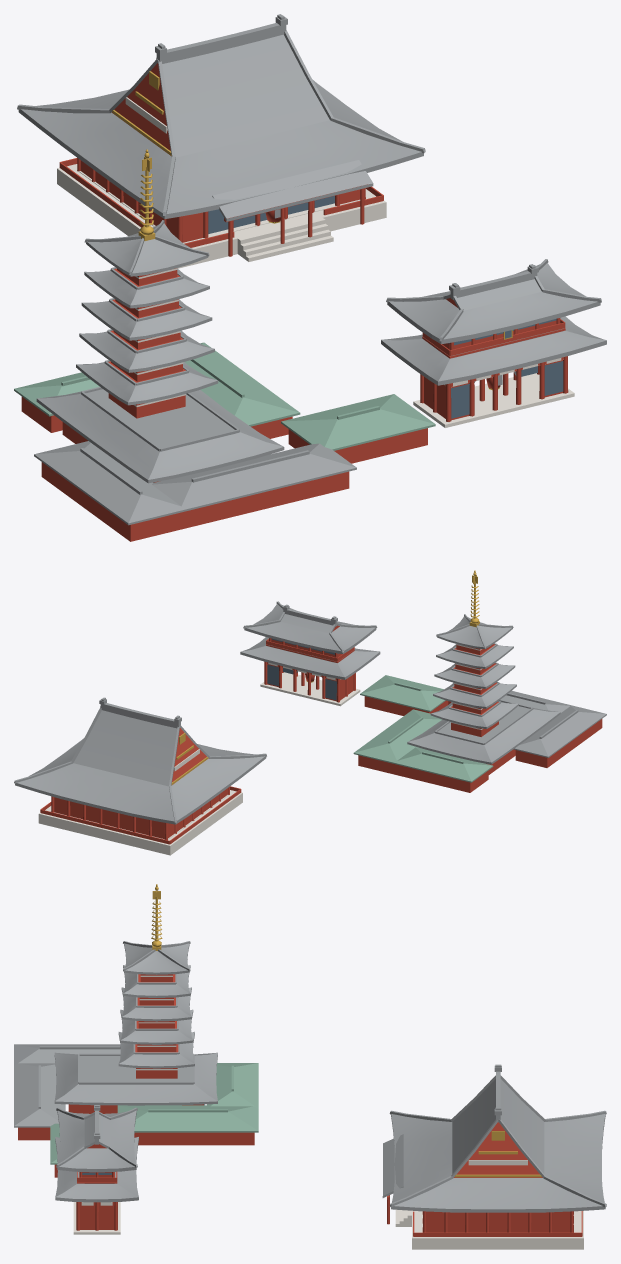
File: tokyo-sensoji.glb
3 renders of one model, top to bottom at view 1: azimuth 30°, elevation 25°; view 2: azimuth 150°, elevation 25°; view 3: azimuth 270°, elevation 25°, orthographic. The views are drawn at different scales.
Parts seen in each view (by area): view 1: Sensō-ji; view 2: Sensō-ji; view 3: Sensō-ji.
Part boxes in pixels (box(x1,y1,x2,y2)): Sensō-ji: box(14, 14, 606, 541); Sensō-ji: box(14, 570, 606, 855); Sensō-ji: box(14, 884, 606, 1249).
Bounding box in the file's own units: 104 × 53.28 × 132.
